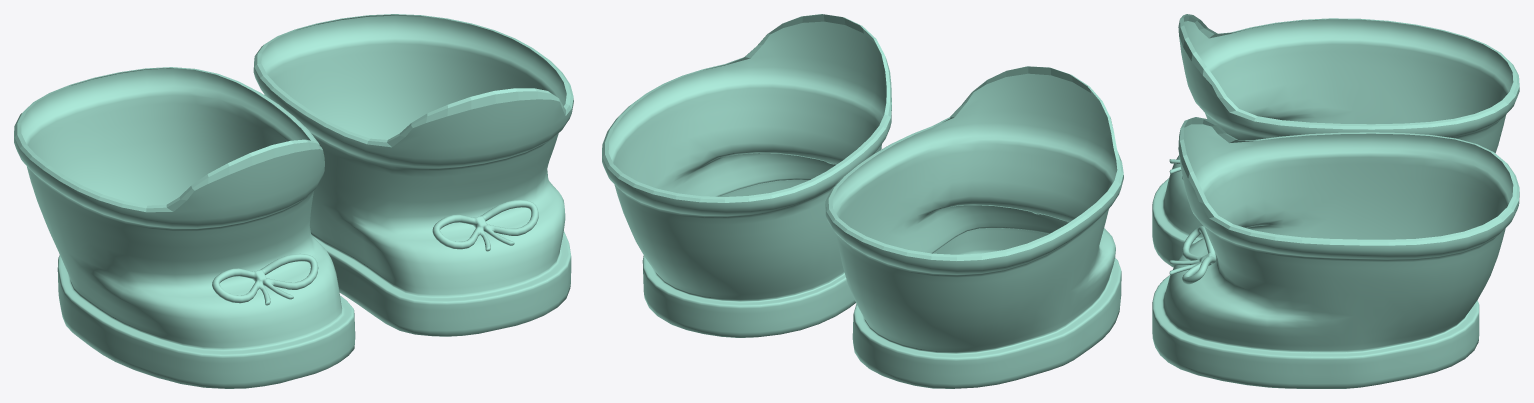
The model's file is Boots03_bow (1).fbx.
The picture shows the model from 3 angles, left to right: view 1: azimuth 30°, elevation 25°; view 2: azimuth 150°, elevation 25°; view 3: azimuth 270°, elevation 25°; orthographic projection. The views are drawn at different scales.
Visible parts, largest first — view 1: Boots_bow; view 2: Boots_bow; view 3: Boots_bow.
Boxes of the visible parts, x1,y1,x2,y2 form: Boots_bow: (14, 14, 573, 388); Boots_bow: (602, 14, 1123, 388); Boots_bow: (1152, 14, 1519, 388).
Bounding box in the file's own units: 100 × 43.9 × 68.89.
